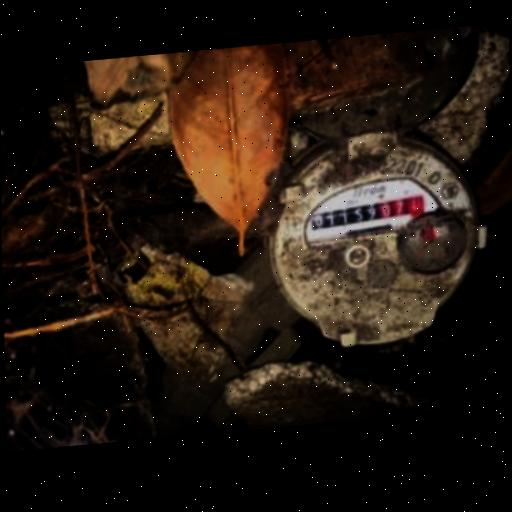0: (406, 194, 424, 217), (377, 201, 391, 220), (312, 212, 325, 231)
1: (337, 208, 350, 227), (325, 211, 338, 228)
5: (351, 205, 365, 225)
7: (389, 198, 408, 218)
9: (365, 203, 378, 222)
border_water_meter_number: (306, 189, 429, 232)
